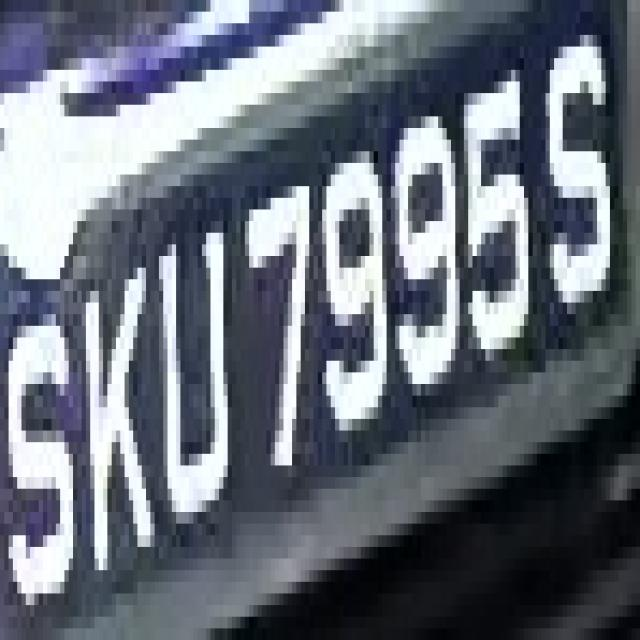5: (447, 59, 532, 372)
7: (228, 198, 318, 465)
9: (386, 82, 459, 430), (314, 140, 395, 453)
K: (78, 209, 164, 582)
S: (0, 256, 77, 582), (537, 46, 618, 326)
U: (146, 175, 232, 512)
